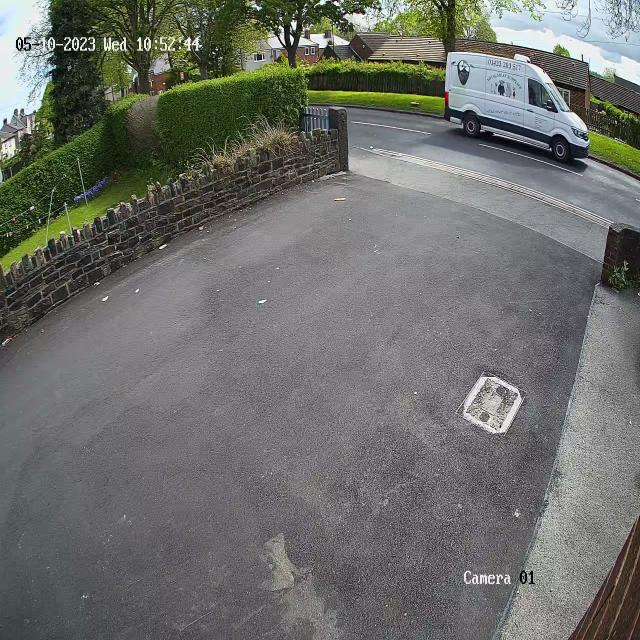vehicle: (438, 44, 598, 172)
